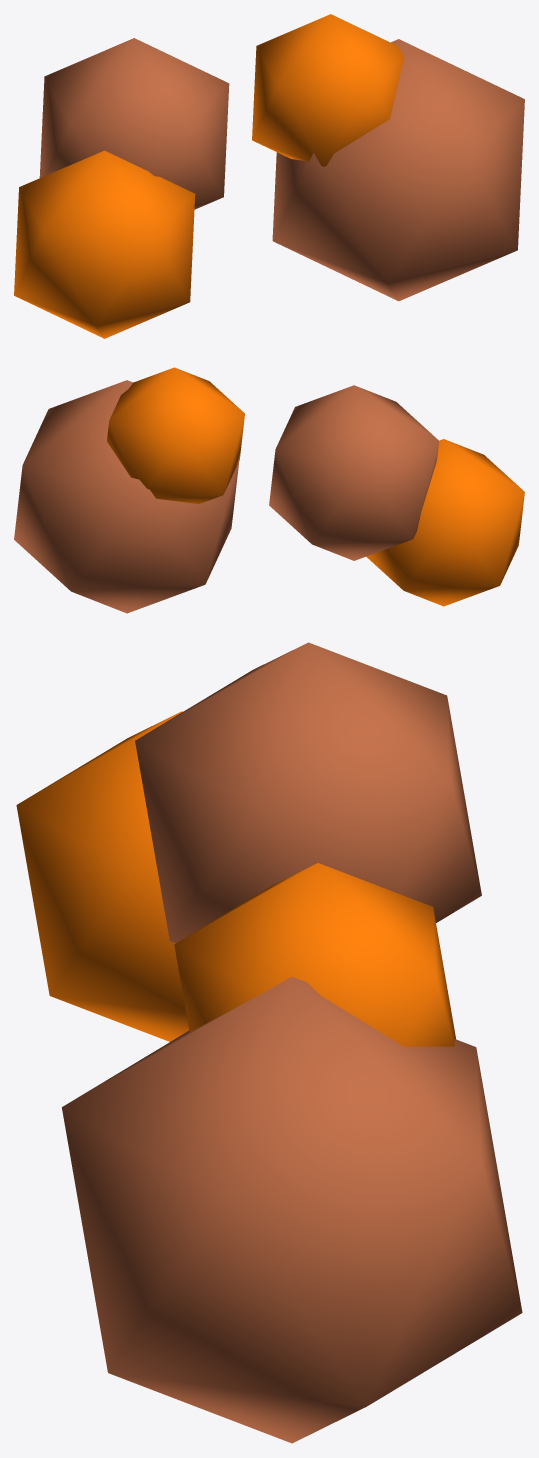
Rendered from treeorange.glb.
3 views of the same model, one above another, from view 1: azimuth 30°, elevation 25°; view 2: azimuth 150°, elevation 25°; view 3: azimuth 270°, elevation 25° (orthographic). The views are drawn at different scales.
Parts seen in each view (by area): view 1: ทรงกลม Ico.003, ทรงกลม Ico, ทรงกลม Ico.001, ทรงกลม Ico.002; view 2: ทรงกลม Ico.003, ทรงกลม Ico.001, ทรงกลม Ico, ทรงกลม Ico.002; view 3: ทรงกลม Ico.003, ทรงกลม Ico.001, ทรงกลม Ico, ทรงกลม Ico.002.
Boxes of the visible parts, x1,y1,x2,y2 form: ทรงกลม Ico.003: (272,39,524,301); ทรงกลม Ico: (14,150,195,338); ทรงกลม Ico.001: (39,38,229,209); ทรงกลม Ico.002: (252,14,404,166); ทรงกลม Ico.003: (14,380,239,613); ทรงกลม Ico.001: (269,385,439,560); ทรงกลม Ico: (366,439,524,606); ทรงกลม Ico.002: (107,367,244,503); ทรงกลม Ico.003: (62,976,522,1443); ทรงกลม Ico.001: (135,642,481,942); ทรงกลม Ico: (16,711,188,1041); ทรงกลม Ico.002: (174,863,455,1046).
Size of the model in its own units: 5.8 by 3.52 by 2.81.
